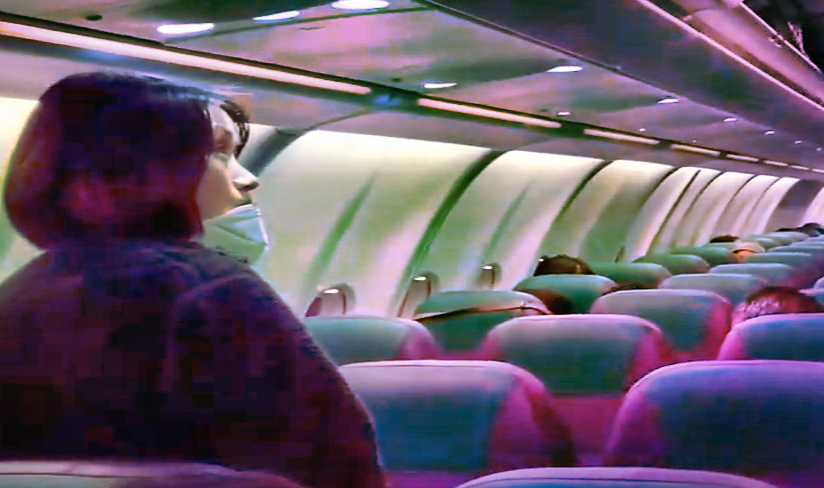mask_weared_incorrect: (109, 68, 272, 265)
